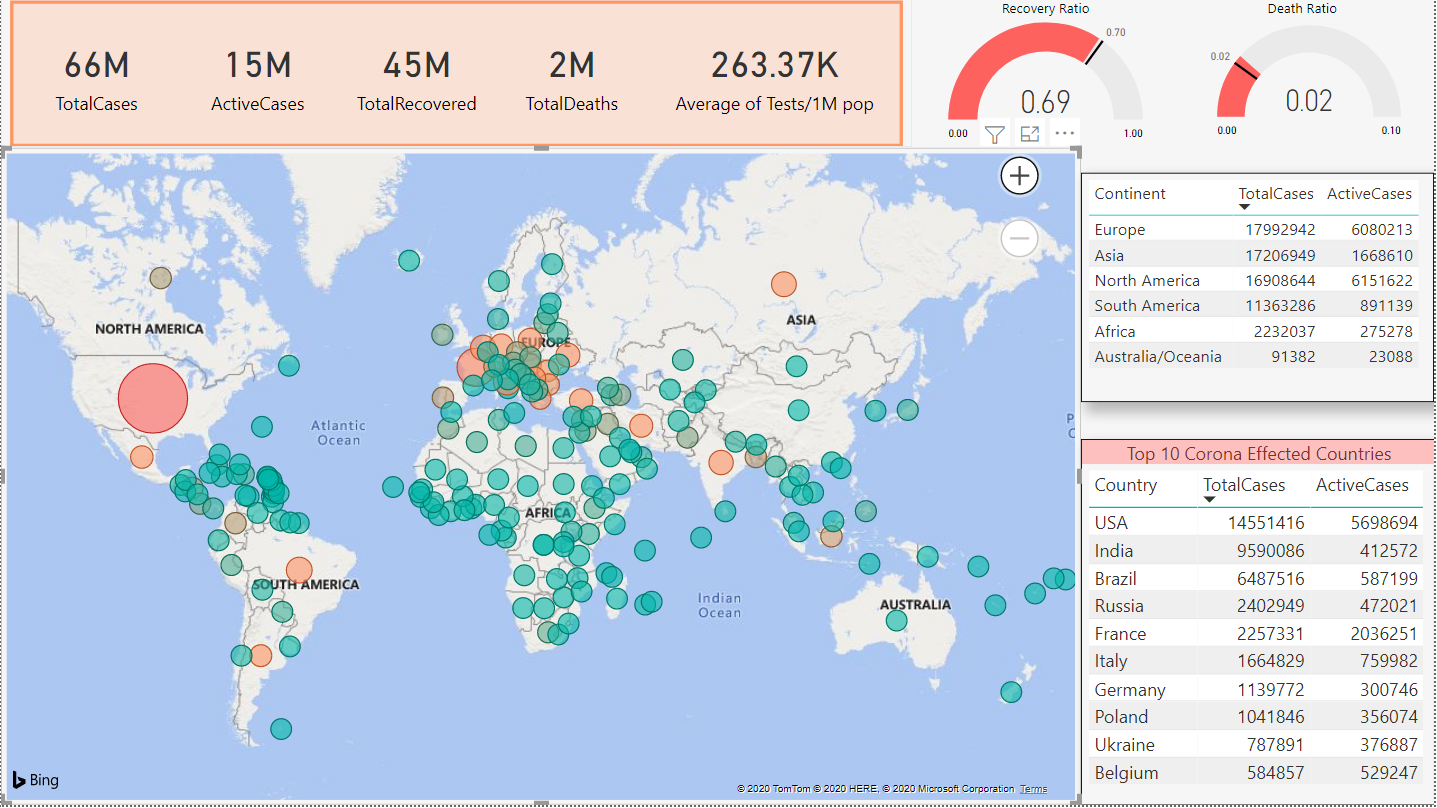

This screenshot's page, from the dashboard's own definition file:
{"tool":"powerbi","page":{"name":"Page 1","canvas":[1280,720],"ordinal":0},"visuals":[{"type":"basicShape","box":[0,0,813.3,133.3],"z":0},{"type":"map","fields":{"Category":["Corona_World_Data.Country,Other"],"Size":["Sum(Corona_World_Data.ActiveCases)"]},"box":[0,132.8,964.5,587.2],"z":1000},{"type":"gauge","fields":{"Y":["Corona_World_Data.Death Ratio"]},"box":[1069.1,0,185.5,133.3],"z":2000},{"type":"gauge","fields":{"Y":["Corona_World_Data.Recovery Ratio"]},"box":[837.6,0,191.5,133.3],"z":3000},{"type":"card","fields":{"Values":["Sum(Corona_World_Data.TotalCases)"]},"box":[15.8,0,139.4,133.3],"z":4000},{"type":"card","fields":{"Values":["Sum(Corona_World_Data.TotalRecovered)"]},"box":[303,0,138.2,133.3],"z":5000},{"type":"card","fields":{"Values":["Sum(Corona_World_Data.ActiveCases)"]},"box":[155.2,0,147.9,133.3],"z":6000},{"type":"card","fields":{"Values":["Sum(Corona_World_Data.TotalDeaths)"]},"box":[441.2,0,138.2,133.3],"z":7000},{"type":"card","fields":{"Values":["Avg(Corona_World_Data.Tests/1M pop)"]},"box":[579.4,0,223,133.3],"z":8000},{"type":"tableEx","fields":{"Values":["Corona_World_Data.Continent","Sum(Corona_World_Data.TotalCases)","Sum(Corona_World_Data.ActiveCases)"]},"box":[964.8,155.2,315.2,204.8],"z":9000},{"type":"tableEx","title":"Top 10 Corona Effected Countries","fields":{"Values":["Corona_World_Data.Country,Other","Sum(Corona_World_Data.TotalCases)","Sum(Corona_World_Data.ActiveCases)"]},"box":[964.5,392.9,315.9,327.1],"z":10000}]}

Visuals, with their boxes in screenshot pixels (x1, y1, x2, y2), scaled from the page's 1280x720 canvas onto the 1437x808 screenshot:
basicShape: (0,0,913,150)
map - Corona_World_Data.Country,Other x Sum(Corona_World_Data.ActiveCases): (0,149,1083,807)
gauge - Corona_World_Data.Death Ratio: (1200,0,1408,150)
gauge - Corona_World_Data.Recovery Ratio: (940,0,1155,150)
card - Sum(Corona_World_Data.TotalCases): (18,0,174,150)
card - Sum(Corona_World_Data.TotalRecovered): (340,0,495,150)
card - Sum(Corona_World_Data.ActiveCases): (174,0,340,150)
card - Sum(Corona_World_Data.TotalDeaths): (495,0,650,150)
card - Avg(Corona_World_Data.Tests/1M pop): (650,0,901,150)
tableEx - Corona_World_Data.Continent x Sum(Corona_World_Data.TotalCases): (1083,174,1436,404)
"Top 10 Corona Effected Countries" tableEx: (1083,441,1436,807)
